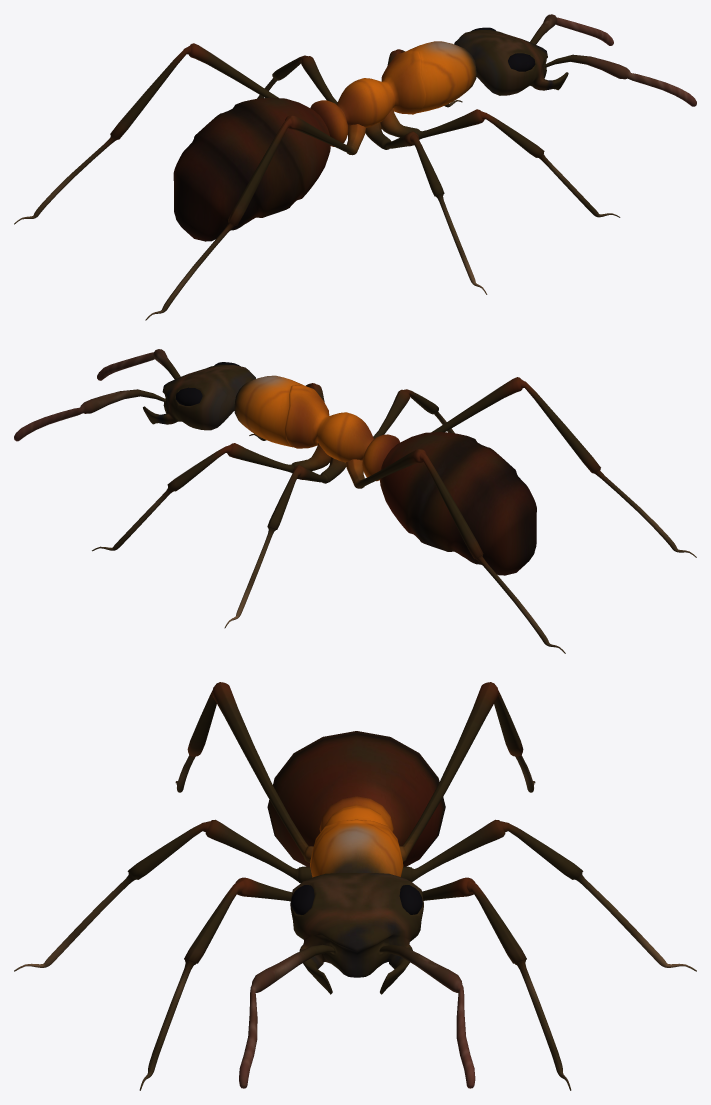
Rendered from ant.glb.
The picture shows the model from 3 angles, top to bottom: view 1: azimuth 30°, elevation 25°; view 2: azimuth 150°, elevation 25°; view 3: azimuth 270°, elevation 25°; orthographic projection. The views are drawn at different scales.
Visible parts, largest first — view 1: Sphere.002_Sphere; view 2: Sphere.002_Sphere; view 3: Sphere.002_Sphere.
Boxes of the visible parts, x1,y1,x2,y2 form: Sphere.002_Sphere: (14,14,696,320); Sphere.002_Sphere: (14,349,696,653); Sphere.002_Sphere: (14,682,696,1090).
Size of the model in its own units: 2.3 by 0.5861 by 1.73.
1 material, 1 textured.
